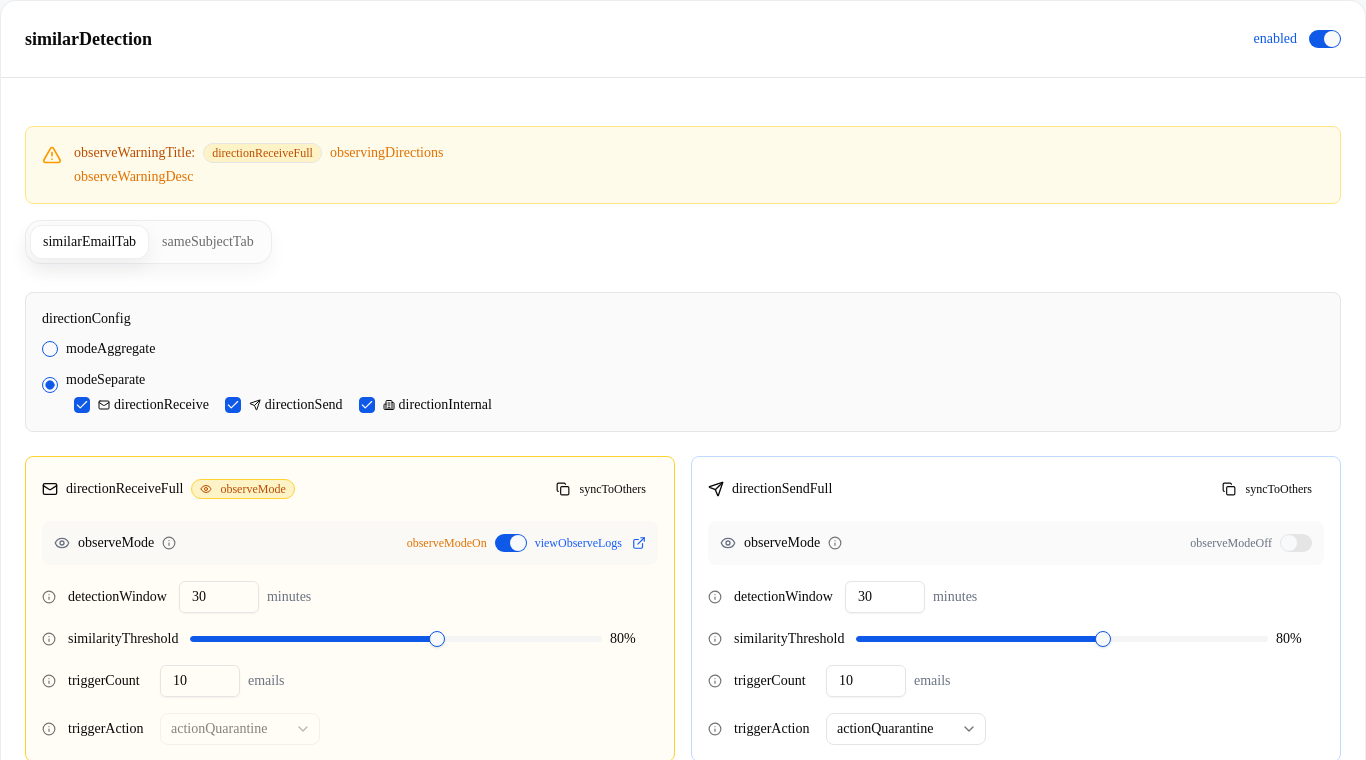
Scenario: SimilarDetectionPage › 切到相同主题 Tab：渲染主题标准化块 + 青/琥珀提示条
The image size is (1366, 760).
Click the tab with test id "similar-detection-tab-same-subject": (208, 242) [149,225,267,259]
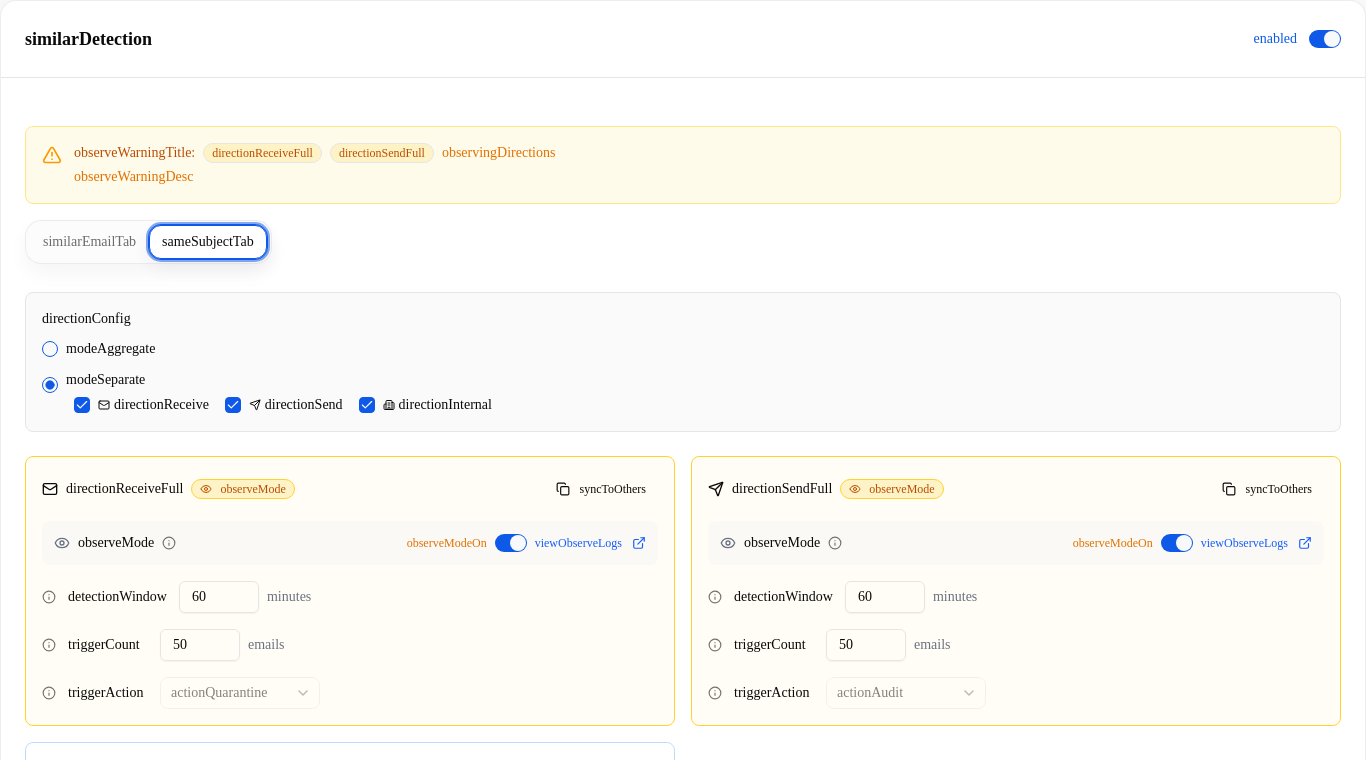
Expected: the text "directionReceiveFull" next to "observeWarningTitle" is shown, [212,146,313,160]
Expected: the text "directionSendFull" next to "observingDirections" is shown, [339,146,425,160]
